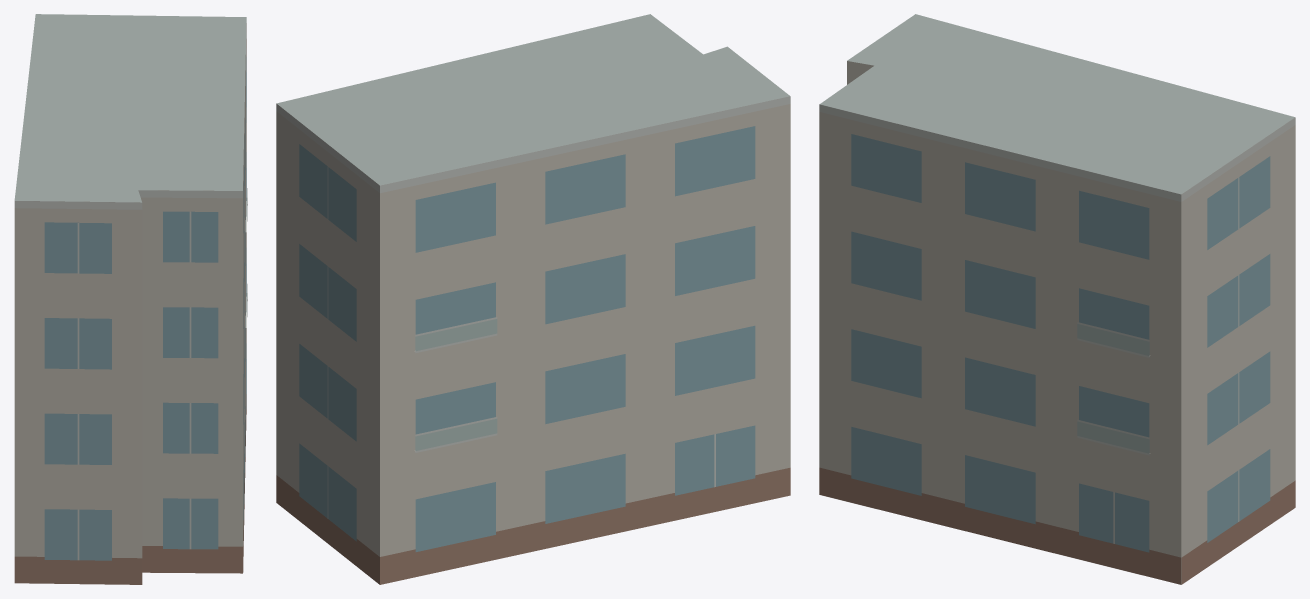
The model's file is survey-upis-32540431.glb.
3 views of the same model, side by side, from view 1: azimuth 30°, elevation 25°; view 2: azimuth 150°, elevation 25°; view 3: azimuth 270°, elevation 25° (orthographic). The views are drawn at different scales.
Visible parts, largest first — view 1: survey-upis-32540431.tmp; view 2: survey-upis-32540431.tmp; view 3: survey-upis-32540431.tmp.
Boxes of the visible parts, <box> form: survey-upis-32540431.tmp: <box>14,14,247,584</box>; survey-upis-32540431.tmp: <box>276,14,790,584</box>; survey-upis-32540431.tmp: <box>819,14,1295,584</box>.
Bounding box in the file's own units: 12.6 × 12.7 × 14.05.
